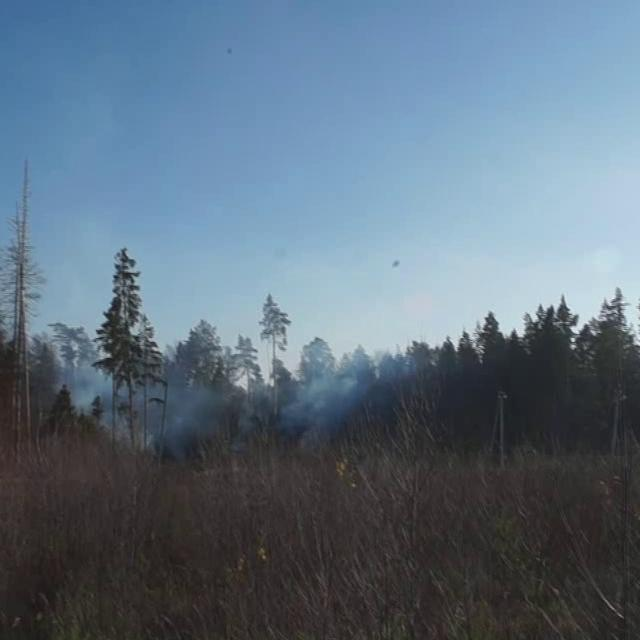Smoke: (43, 334, 409, 458)
